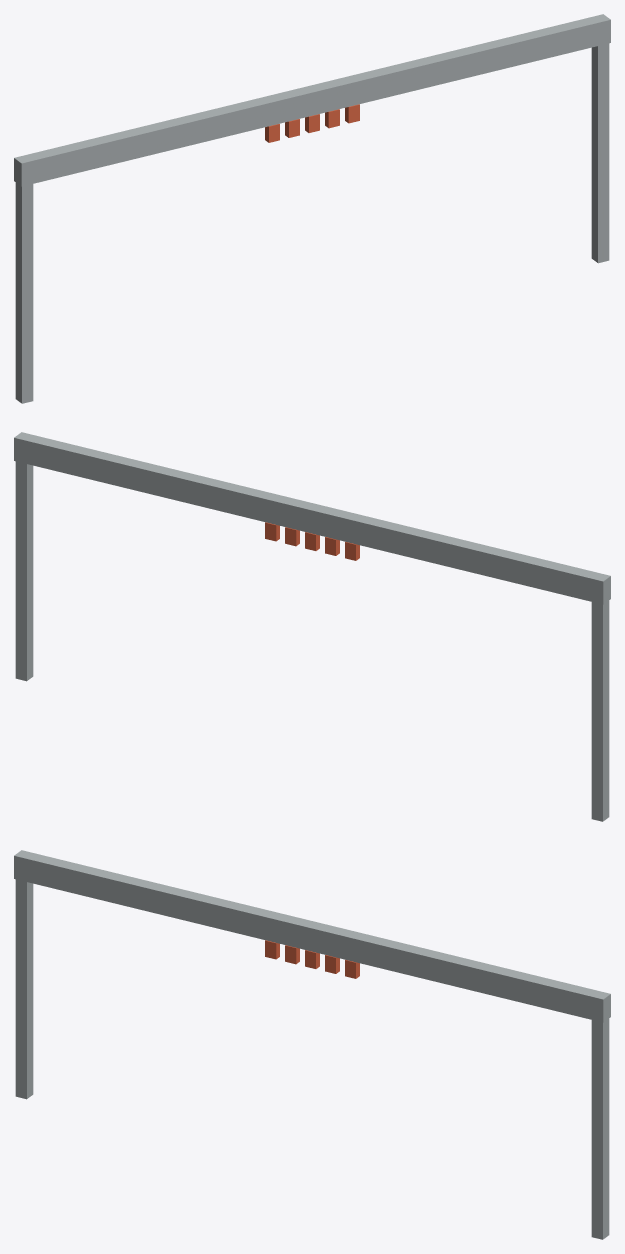
Rendered from prop_gantry.glb.
3 views of the same model, one above another, from view 1: azimuth 30°, elevation 25°; view 2: azimuth 150°, elevation 25°; view 3: azimuth 330°, elevation 25° (orthographic).
Parts seen in each view (by area): view 1: start-light-gantry; view 2: start-light-gantry; view 3: start-light-gantry.
Part boxes in pixels (left/top/right/bottom): start-light-gantry: left=14, top=14, right=610, bottom=403; start-light-gantry: left=14, top=432, right=610, bottom=821; start-light-gantry: left=14, top=850, right=610, bottom=1239.
Size of the model in its own units: 13.3 by 5.2 by 0.3004.
